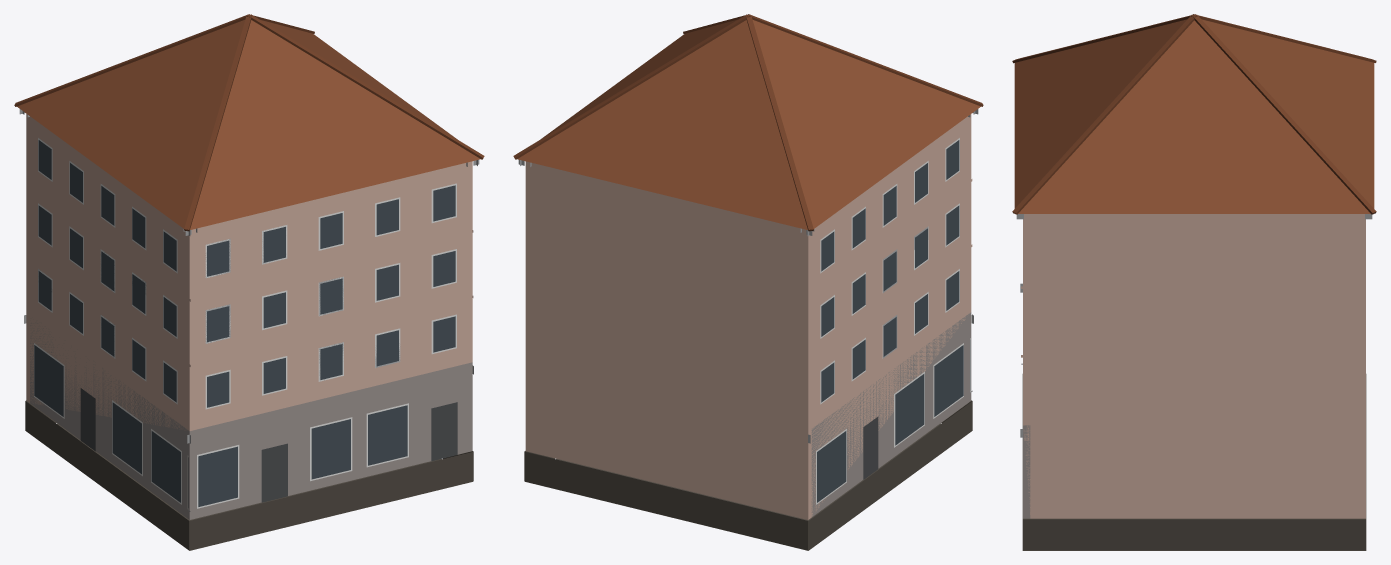
The model's file is block-corner-4-lod1.glb.
3 renders of one model, left to right at view 1: azimuth 30°, elevation 25°; view 2: azimuth 150°, elevation 25°; view 3: azimuth 270°, elevation 25°, orthographic. The views are drawn at different scales.
Parts seen in each view (by area): view 1: block-corner-4-plaster0; view 2: block-corner-4-plaster0; view 3: block-corner-4-plaster0.
Boxes of the visible parts, <box> form: block-corner-4-plaster0: <box>14,14,484,550</box>; block-corner-4-plaster0: <box>513,14,983,550</box>; block-corner-4-plaster0: <box>1012,14,1376,550</box>.
Bounding box in the file's own units: 14.89 × 20.88 × 14.89.
